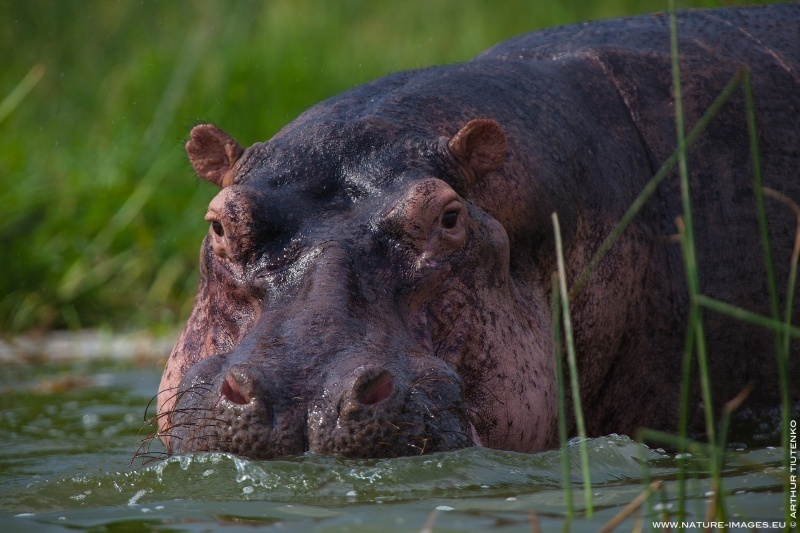hipopotamo: (119, 7, 800, 489)
